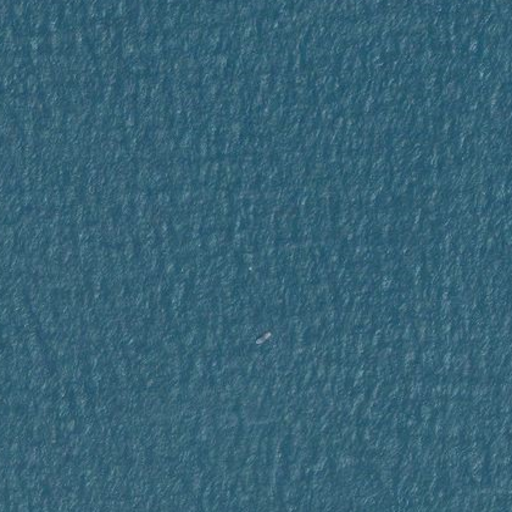ship: (250, 328, 275, 348)
